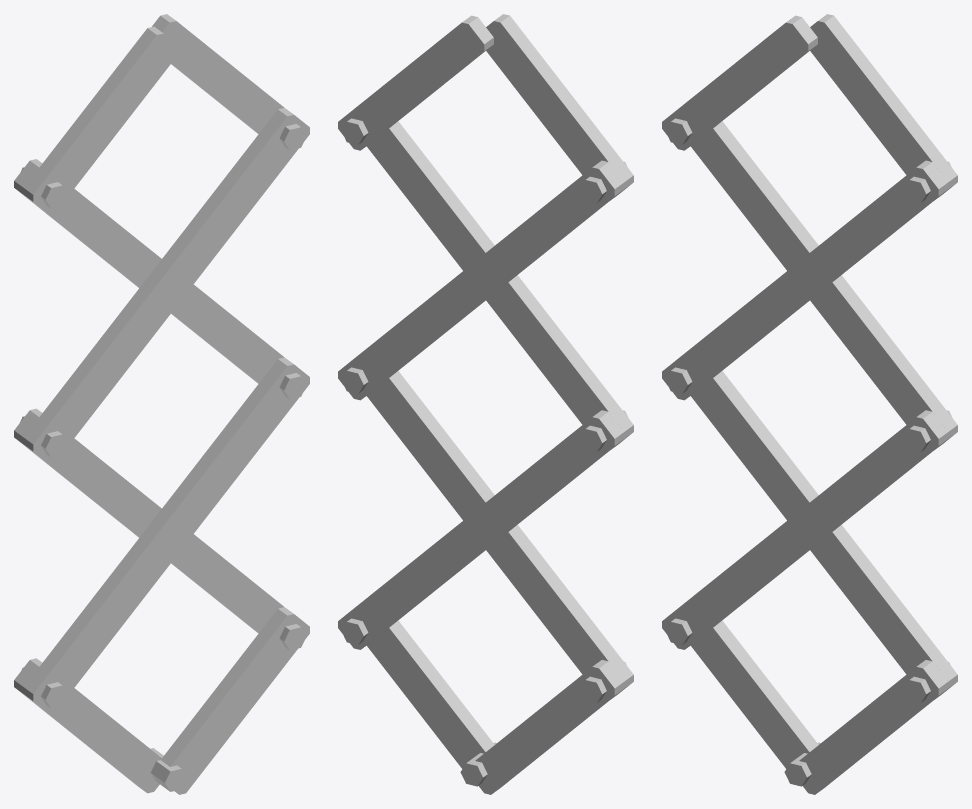
The model's file is gear_machine_01.fbx.
3 views of the same model, side by side, from view 1: azimuth 30°, elevation 25°; view 2: azimuth 150°, elevation 25°; view 3: azimuth 330°, elevation 25° (orthographic).
Visible parts, largest first — view 1: gear_machine_01; view 2: gear_machine_01; view 3: gear_machine_01.
Part boxes in pixels (x1,y1,x2,y2): gear_machine_01: (14, 14, 309, 794); gear_machine_01: (338, 14, 633, 794); gear_machine_01: (662, 14, 957, 794).
Size of the model in its own units: 8.73 by 23.09 by 1.55.
1 material, 1 textured.
